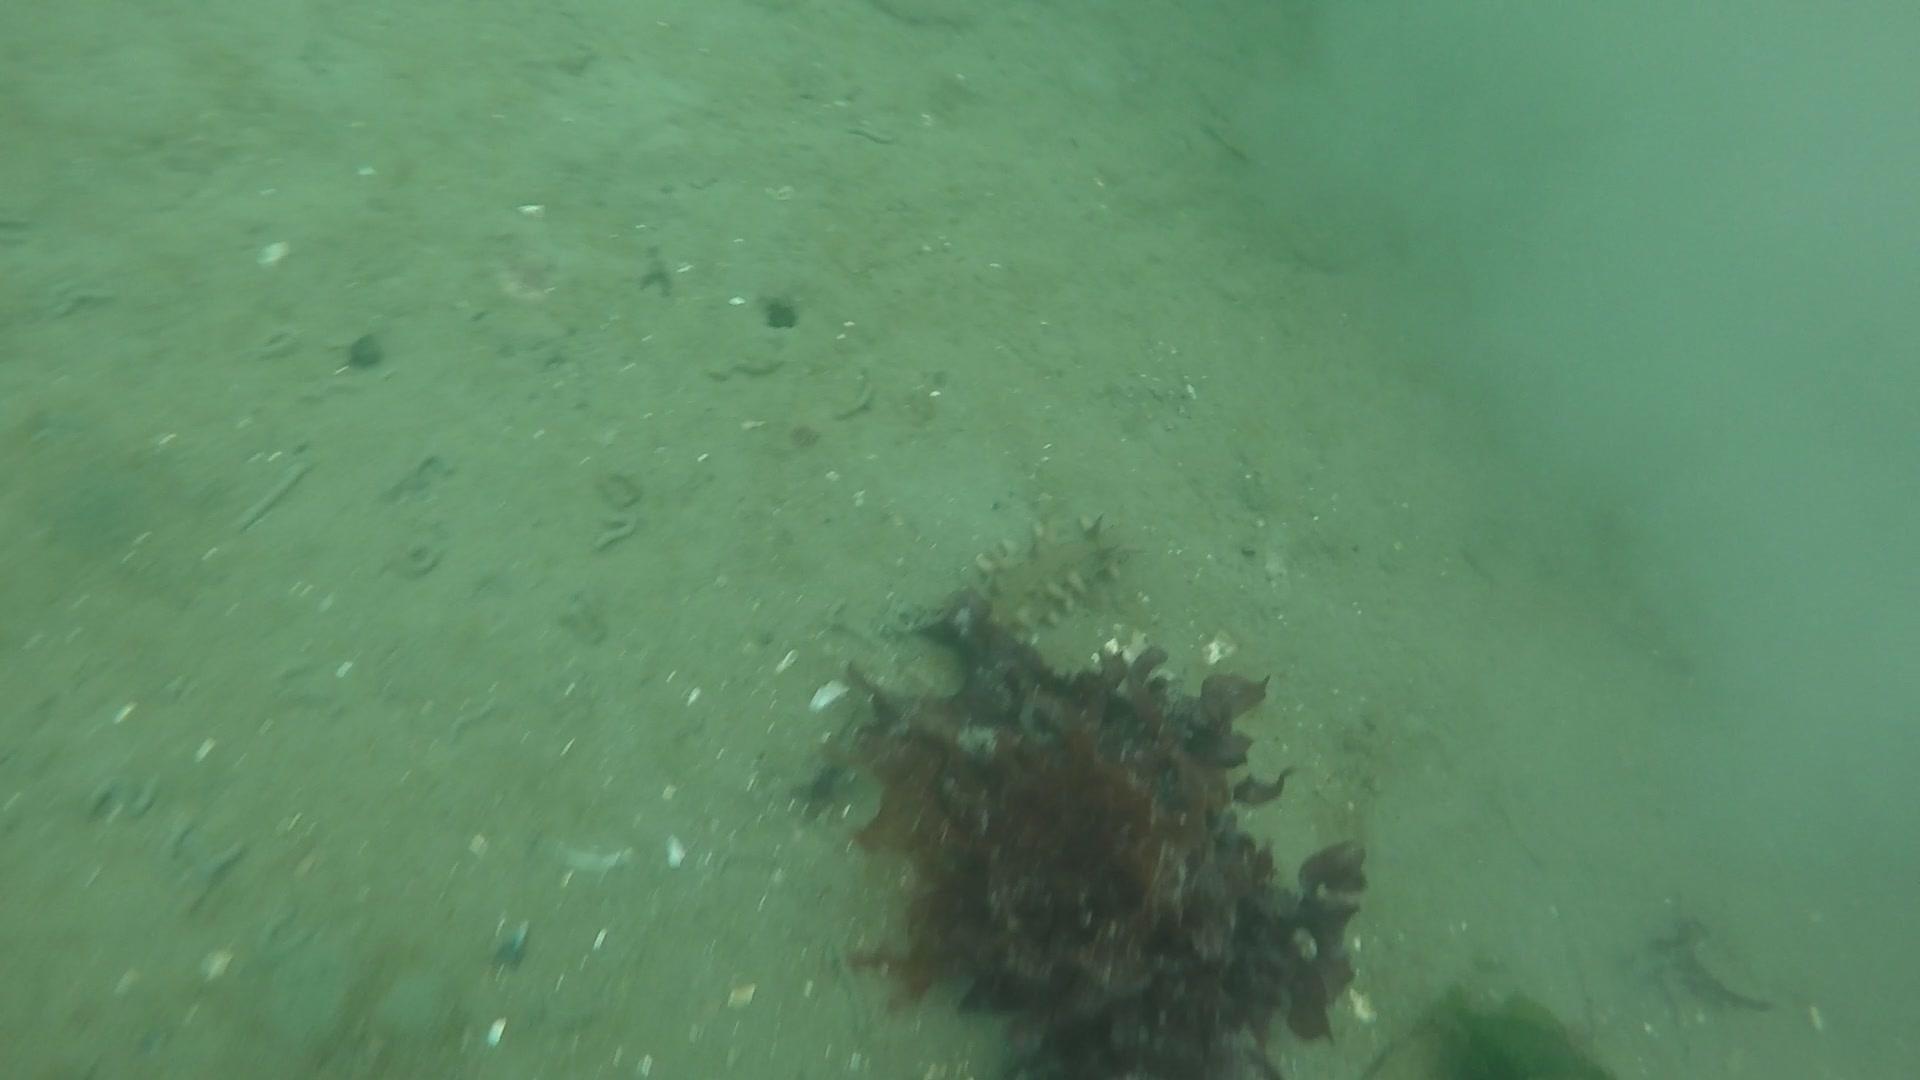holothurian: (971, 505, 1133, 644)
